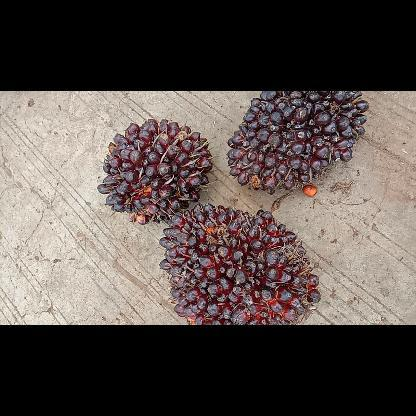TBS mentah: (155, 198, 325, 324), (224, 91, 370, 197), (95, 116, 214, 226)
